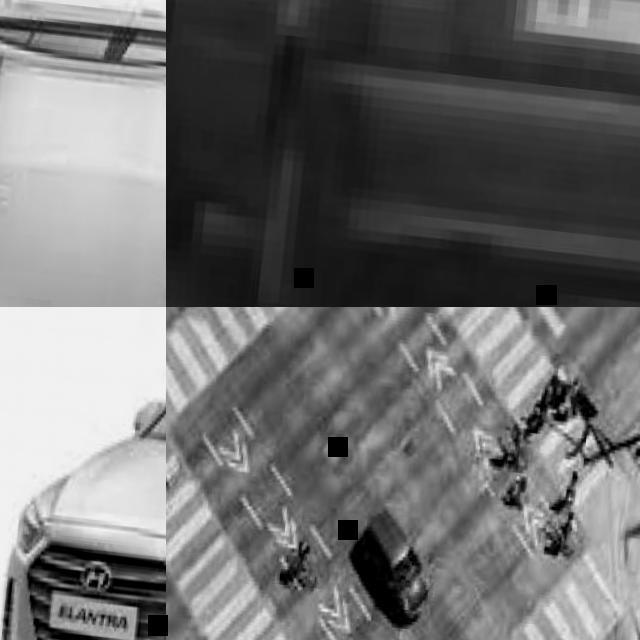car: (256, 0, 639, 298), (15, 389, 287, 639)
